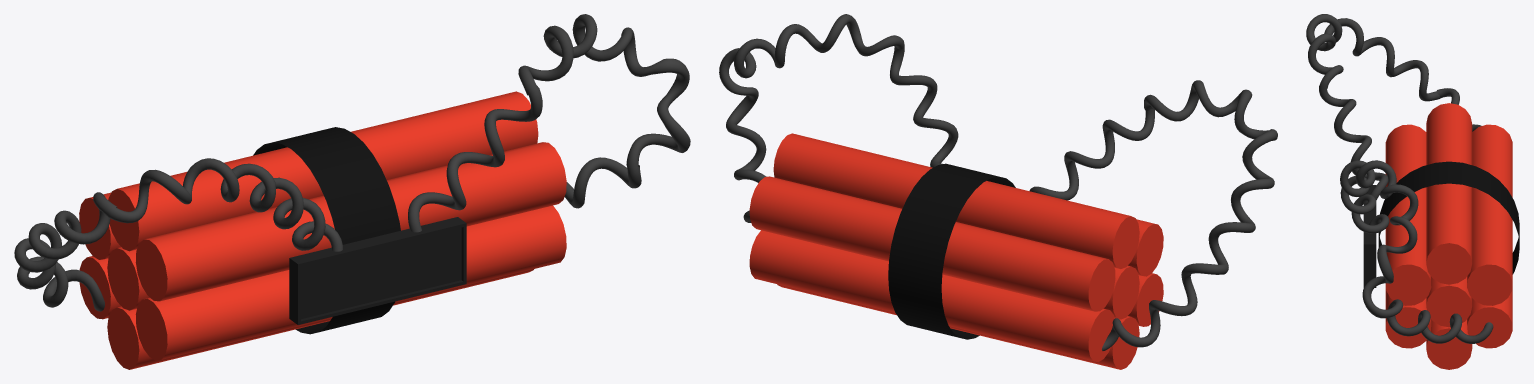
The model's file is Bomb.fbx.
The picture shows the model from 3 angles, left to right: view 1: azimuth 30°, elevation 25°; view 2: azimuth 150°, elevation 25°; view 3: azimuth 270°, elevation 25°; orthographic projection. The views are drawn at different scales.
Visible parts, largest first — view 1: Bomb_Tubes; view 2: Bomb_Tubes; view 3: Bomb_Tubes.
Boxes of the visible parts, bbox=[...] form: Bomb_Tubes: bbox=[14, 14, 690, 369]; Bomb_Tubes: bbox=[719, 14, 1277, 369]; Bomb_Tubes: bbox=[1306, 14, 1519, 369].
Size of the model in its own units: 12.87 by 5.44 by 5.16.
